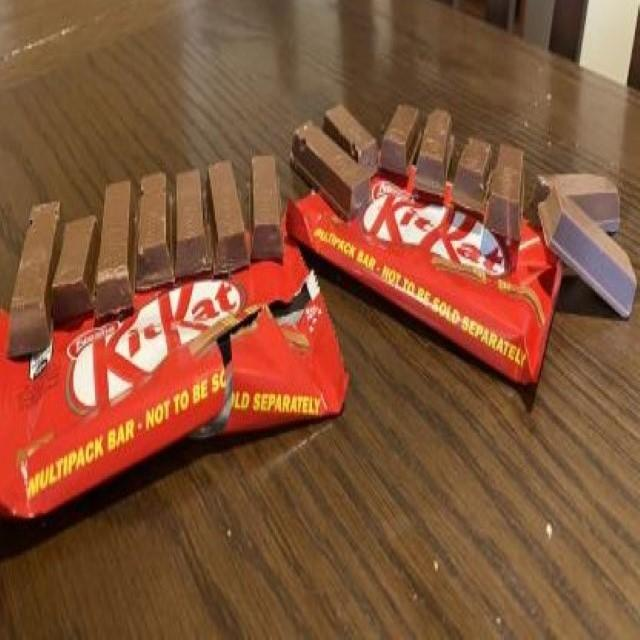kitkat_chocolate: (27, 260, 330, 462), (367, 138, 540, 348)
